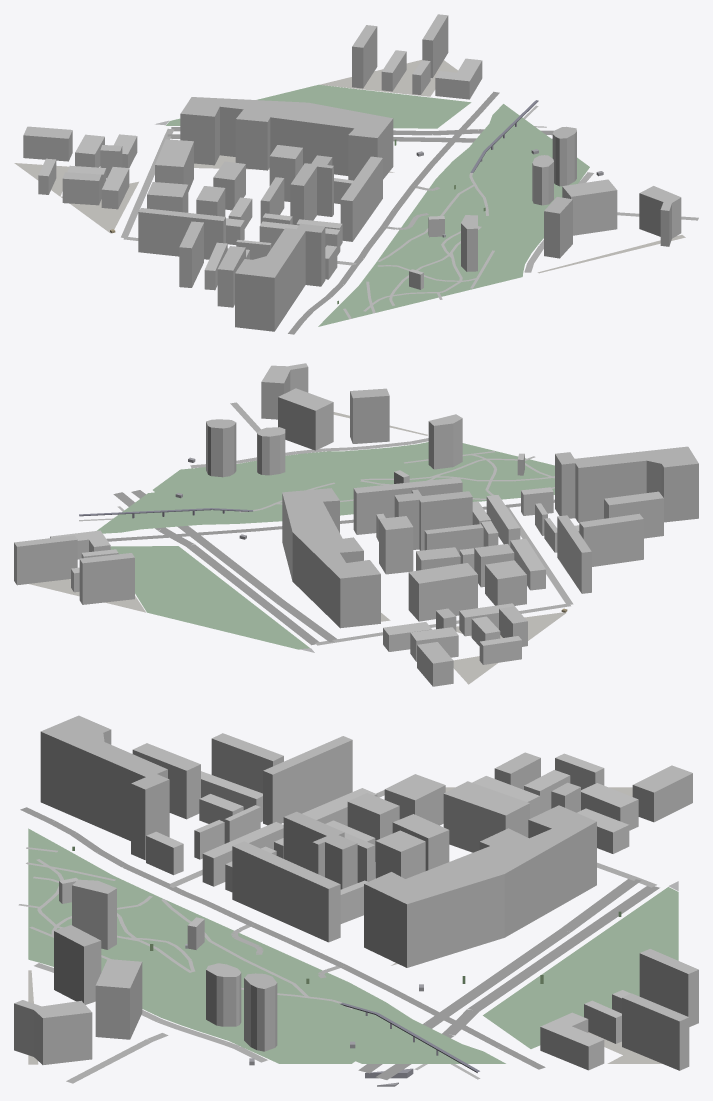
3 views of the same model, one above another, from view 1: azimuth 30°, elevation 25°; view 2: azimuth 150°, elevation 25°; view 3: azimuth 270°, elevation 25° (orthographic). The views are drawn at different scales.
Bounding box in the file's own units: 551 × 80.29 × 527.
